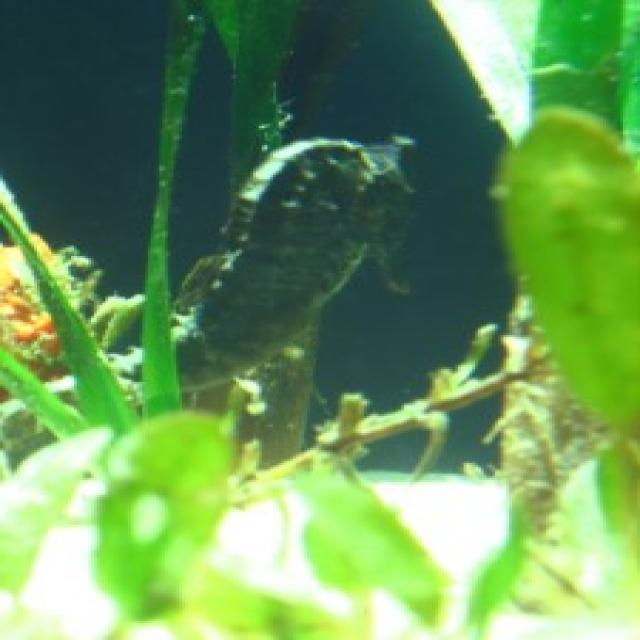Seahorse: (60, 105, 442, 408)
